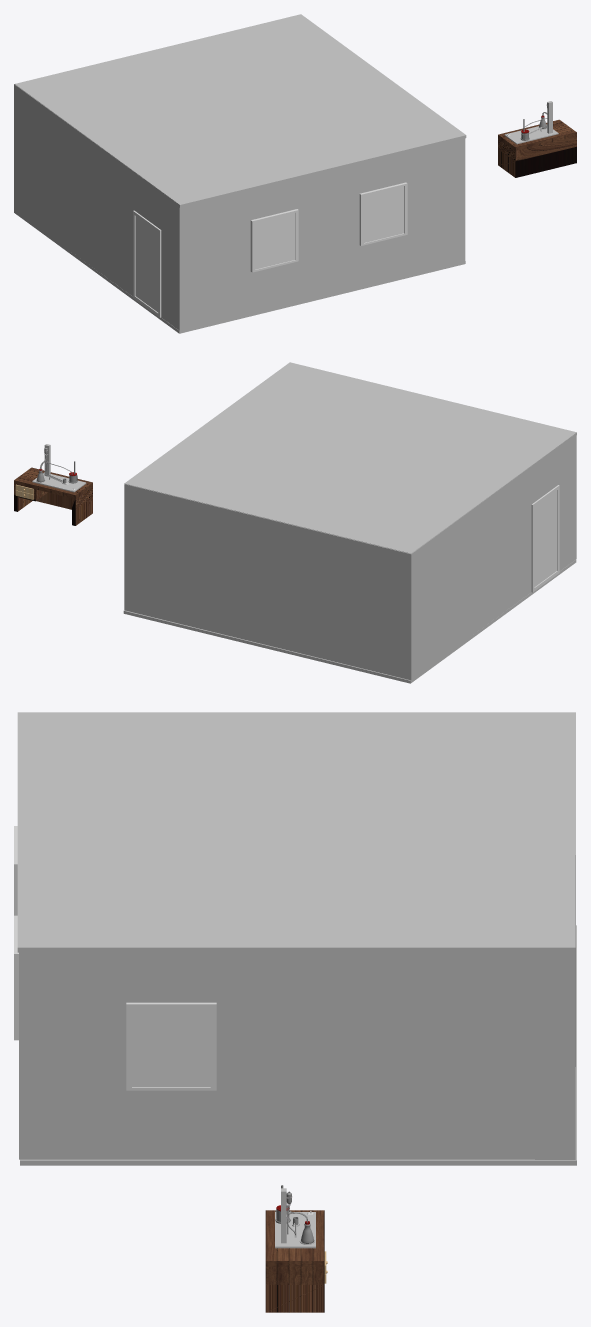
File: проект.FBX
3 renders of one model, top to bottom at view 1: azimuth 30°, elevation 25°; view 2: azimuth 150°, elevation 25°; view 3: azimuth 270°, elevation 25°, orthographic. The views are drawn at different scales.
Parts seen in each view (by area): view 1: Wall1, kriha, stol, dwer003, dwer1, dwer006, pol, dwer2, dwer004, dwer005, Box001; view 2: Wall1, kriha, stol, dwer1, pol, dwer2, Box001; view 3: kriha, Wall1, dwer007, stol, pol, dwer008, Box001.
Boxes of the visible parts, bbox=[...] form: Wall1: bbox=[14, 83, 465, 330]; kriha: bbox=[15, 14, 466, 207]; stol: bbox=[498, 119, 576, 177]; dwer003: bbox=[255, 213, 295, 269]; dwer1: bbox=[135, 216, 158, 312]; dwer006: bbox=[364, 186, 403, 242]; pol: bbox=[14, 210, 465, 333]; dwer2: bbox=[133, 210, 161, 317]; dwer004: bbox=[250, 209, 298, 272]; dwer005: bbox=[359, 182, 407, 245]; Box001: bbox=[504, 101, 558, 144]; Wall1: bbox=[124, 433, 576, 680]; kriha: bbox=[124, 362, 576, 553]; stol: bbox=[14, 467, 92, 525]; dwer1: bbox=[534, 490, 557, 586]; pol: bbox=[123, 559, 576, 683]; dwer2: bbox=[531, 485, 559, 592]; Box001: bbox=[32, 444, 86, 492]; kriha: bbox=[17, 712, 574, 952]; Wall1: bbox=[19, 712, 575, 1159]; dwer007: bbox=[132, 1007, 210, 1086]; stol: bbox=[265, 1210, 324, 1312]; pol: bbox=[20, 925, 576, 1165]; dwer008: bbox=[126, 1002, 216, 1090]; Box001: bbox=[275, 1188, 315, 1248].
Bounding box in the file's own units: 1688 × 442 × 1035.
